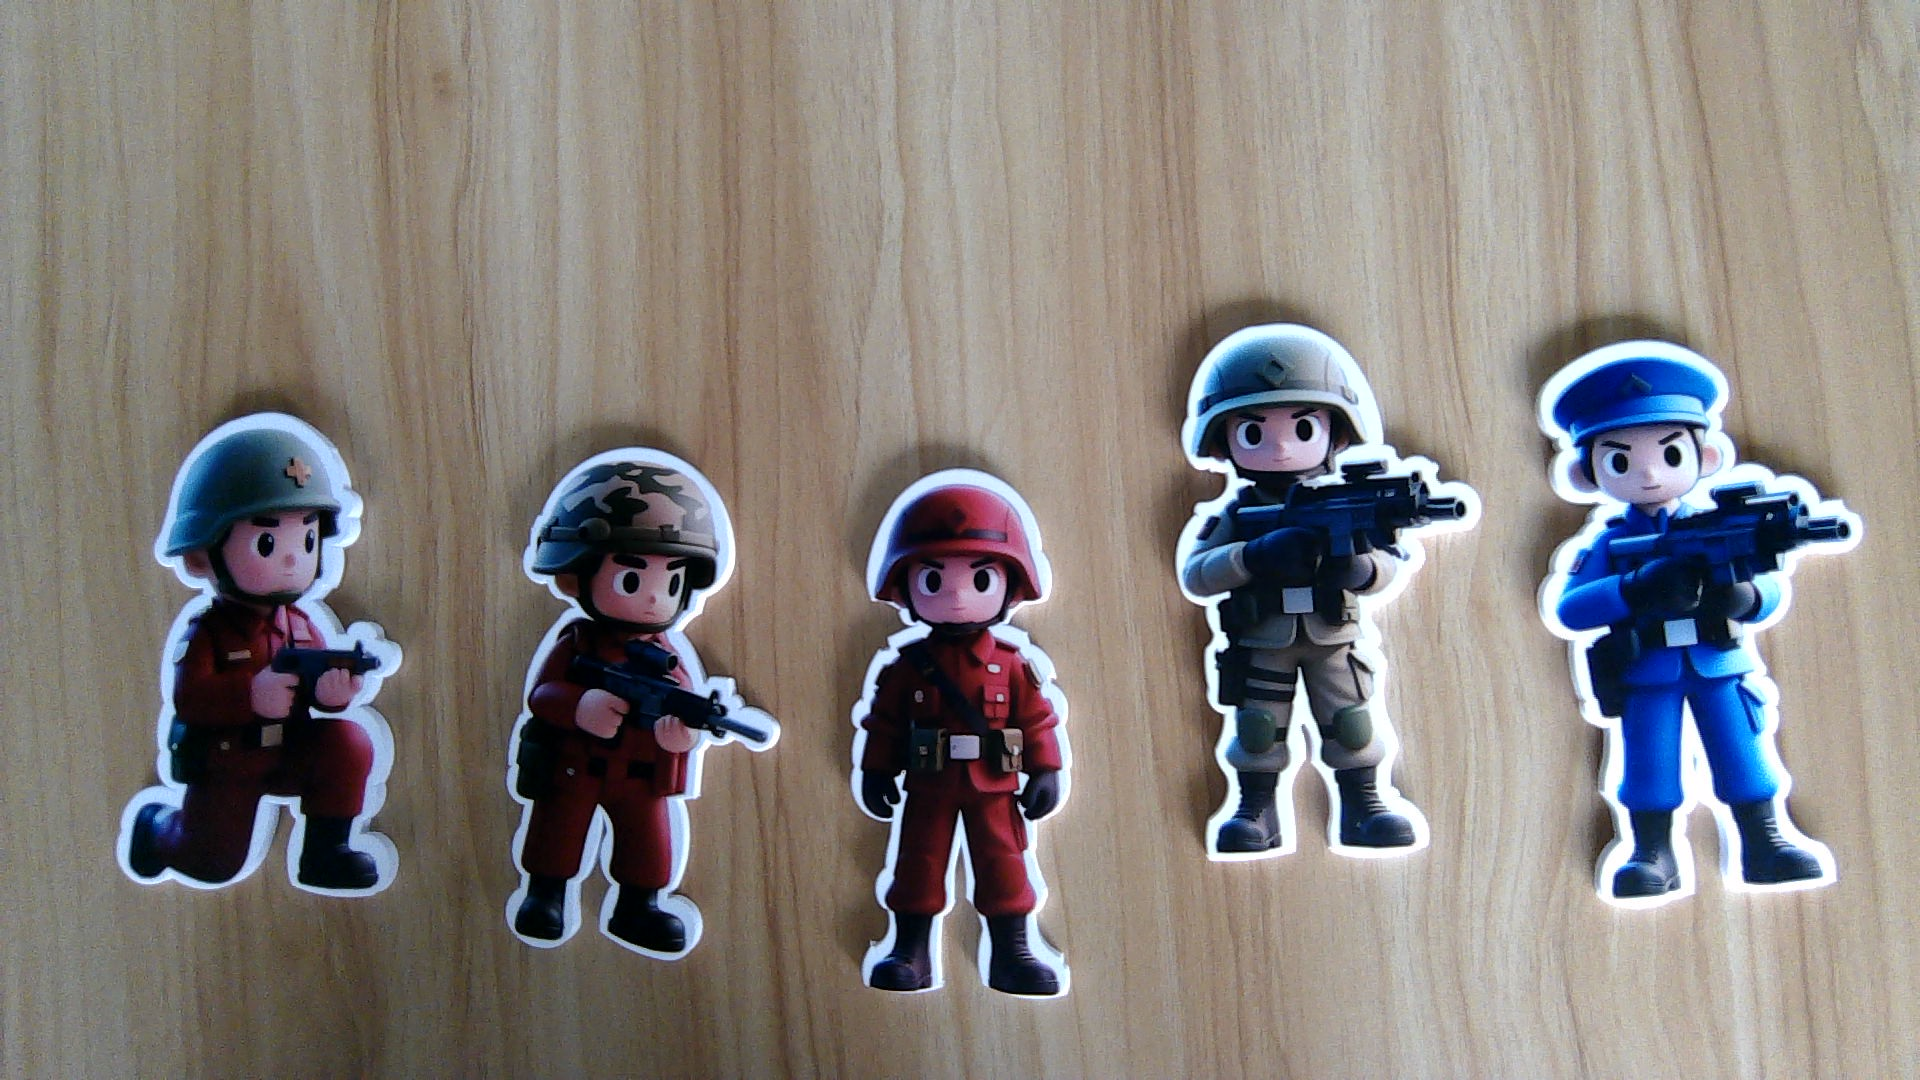友军: (1166, 477, 1466, 861)
敌人1: (839, 626, 1091, 1001), (113, 597, 410, 899), (502, 626, 756, 963)
敌人2: (1528, 504, 1876, 909)
